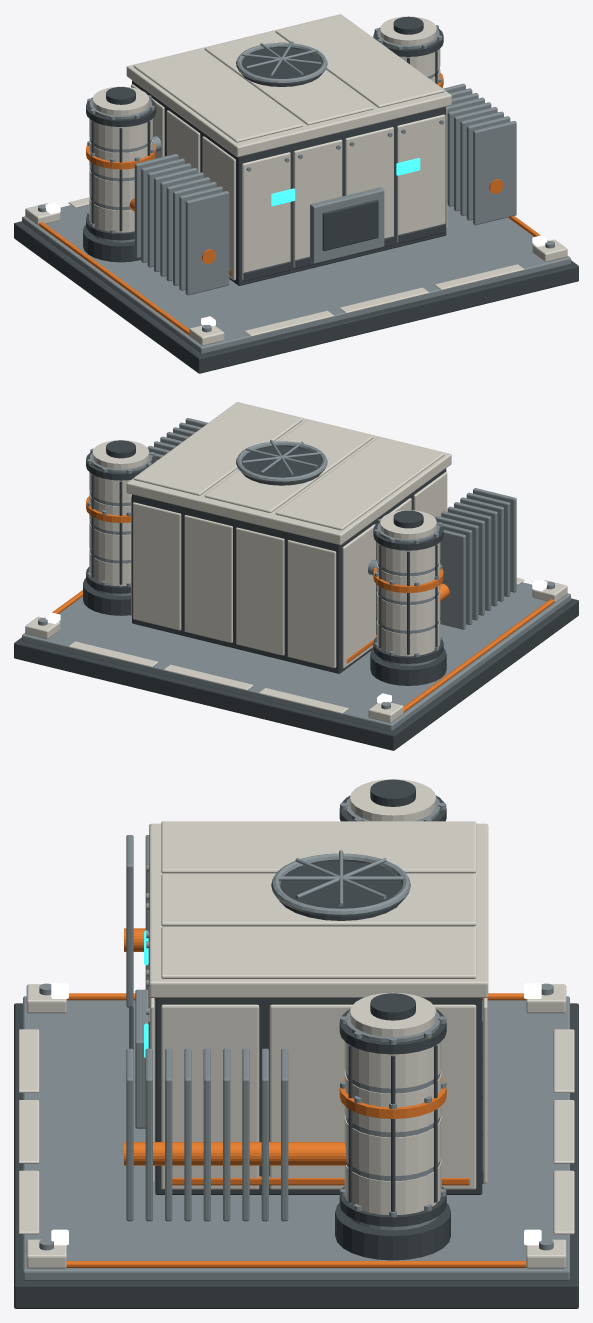
File: SM_CoolingSystemsPlant_Refined.fbx
3 views of the same model, one above another, from view 1: azimuth 30°, elevation 25°; view 2: azimuth 150°, elevation 25°; view 3: azimuth 270°, elevation 25° (orthographic). The views are drawn at different scales.
Parts seen in each view (by area): view 1: SM_CoolingSystemsPlant_Refined.001; view 2: SM_CoolingSystemsPlant_Refined.001; view 3: SM_CoolingSystemsPlant_Refined.001.
Part boxes in pixels (<box>): SM_CoolingSystemsPlant_Refined.001: <box>14,14,578,373</box>; SM_CoolingSystemsPlant_Refined.001: <box>14,402,578,750</box>; SM_CoolingSystemsPlant_Refined.001: <box>14,779,578,1308</box>.
Bounding box in the file's own units: 450 × 380 × 216.
